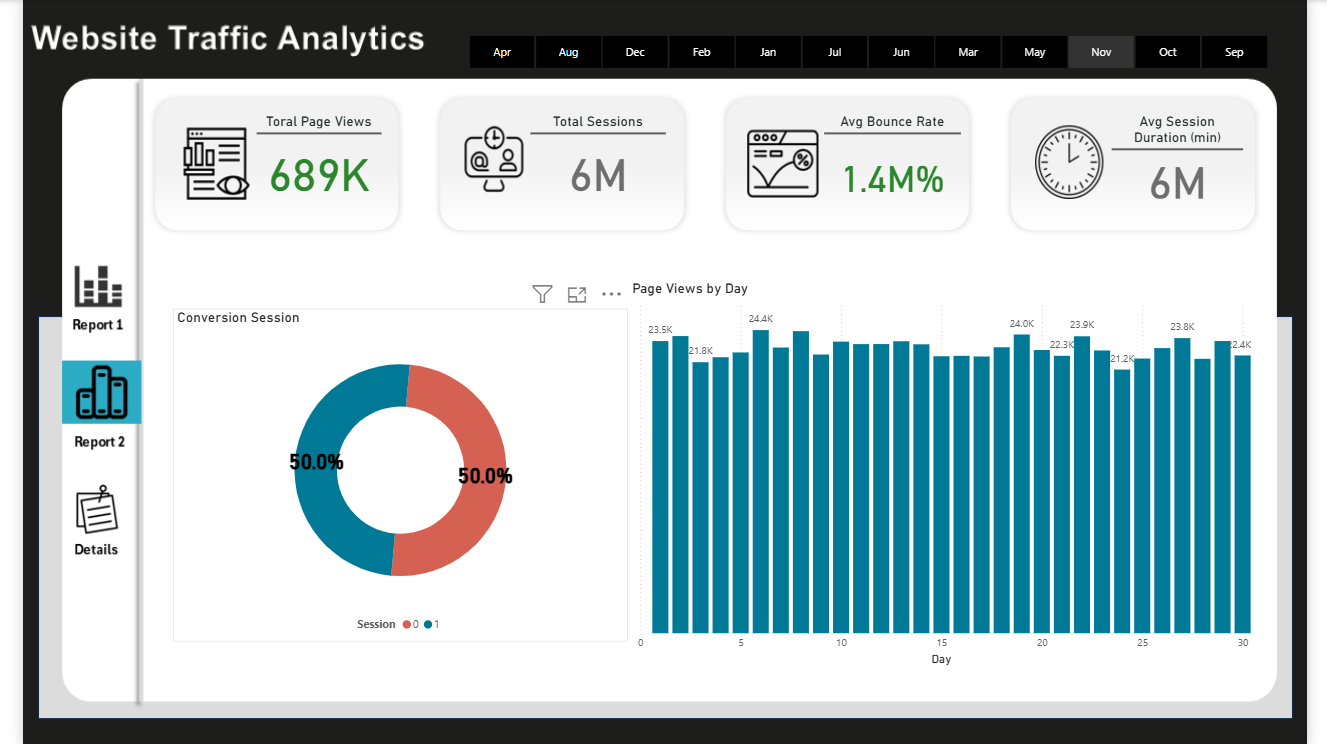

Layout of this report page (visuals, bound fields, positions):
{"tool":"powerbi","page":{"name":"Report2","canvas":[1550,900],"ordinal":1},"visuals":[{"type":"slicer","fields":{"Values":["website analytics dataset.Month"]},"box":[513.4,35.8,1011.9,52.2],"z":1000},{"type":"card","title":"Toral Page Views","fields":{"Values":["Sum(website analytics dataset.Page Views)"]},"box":[282.3,135.5,150,109.7],"z":2000},{"type":"card","title":"Total Sessions","fields":{"Values":["Sum(website analytics dataset.Session Duration (sec))"]},"box":[612.9,135.5,162.9,109.7],"z":3000},{"type":"card","title":"Avg Bounce Rate","fields":{"Values":["Sum(website analytics dataset.Avg Bounce Rate)"]},"box":[966.1,135.5,164.5,122.6],"z":4000},{"type":"card","title":"Avg Session Duration (min)","fields":{"Values":["Sum(website analytics dataset.Session Duration (sec))"]},"box":[1312.9,135.5,158.1,109.7],"z":5000},{"type":"columnChart","title":"Page Views by Day","fields":{"Y":["Sum(website analytics dataset.Page Views)"],"Category":["website analytics dataset.Date.Variation.Date Hierarchy.Day"]},"box":[729.9,337.3,756.7,470.1],"z":5001},{"type":"donutChart","title":"Conversion  Session","fields":{"Y":["website analytics dataset.Counversion"],"Category":["website analytics dataset.Conversion"]},"box":[180.6,373.1,549.3,400],"z":5002},{"type":"actionButton","box":[58.2,303,64.2,76.1],"z":5003},{"type":"actionButton","box":[56.7,573.1,64.2,76.1],"z":5004}]}

Visuals, with their boxes on the page's 1550x900 design canvas (x1, y1, x2, y2). These are canvas units, not pixel positions in the 1327x744 screenshot, which may show the page scaled, cropped or inside an application window:
slicer - website analytics dataset.Month: BBox(513, 36, 1525, 88)
"Toral Page Views" card: BBox(282, 136, 432, 245)
"Total Sessions" card: BBox(613, 136, 776, 245)
"Avg Bounce Rate" card: BBox(966, 136, 1131, 258)
"Avg Session Duration (min)" card: BBox(1313, 136, 1471, 245)
"Page Views by Day" columnChart: BBox(730, 337, 1487, 807)
"Conversion  Session" donutChart: BBox(181, 373, 730, 773)
actionButton: BBox(58, 303, 122, 379)
actionButton: BBox(57, 573, 121, 649)
